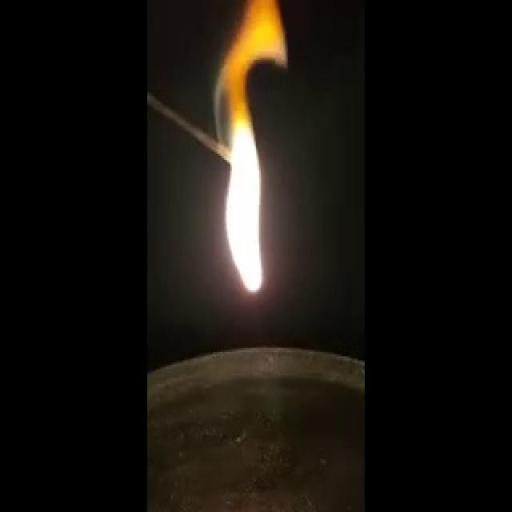smoke: (214, 51, 276, 314)
